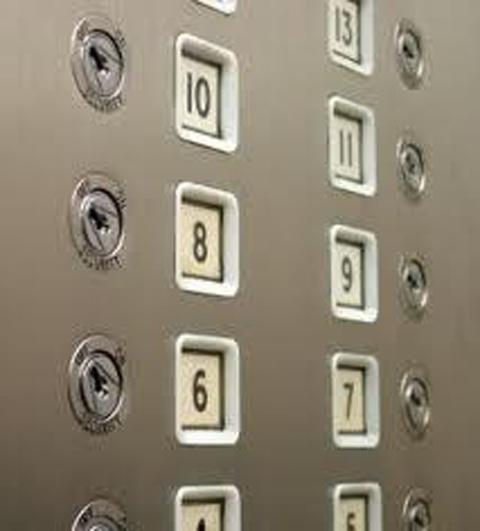10: (165, 25, 247, 162)
11: (320, 91, 382, 203)
6: (166, 319, 248, 456)
7: (323, 343, 385, 455)
8: (164, 171, 246, 308)
9: (322, 217, 384, 329)
keyhole: (63, 8, 135, 118), (61, 327, 131, 439), (64, 166, 131, 277), (380, 11, 436, 94), (385, 361, 441, 442), (382, 243, 438, 324), (382, 126, 438, 207)
